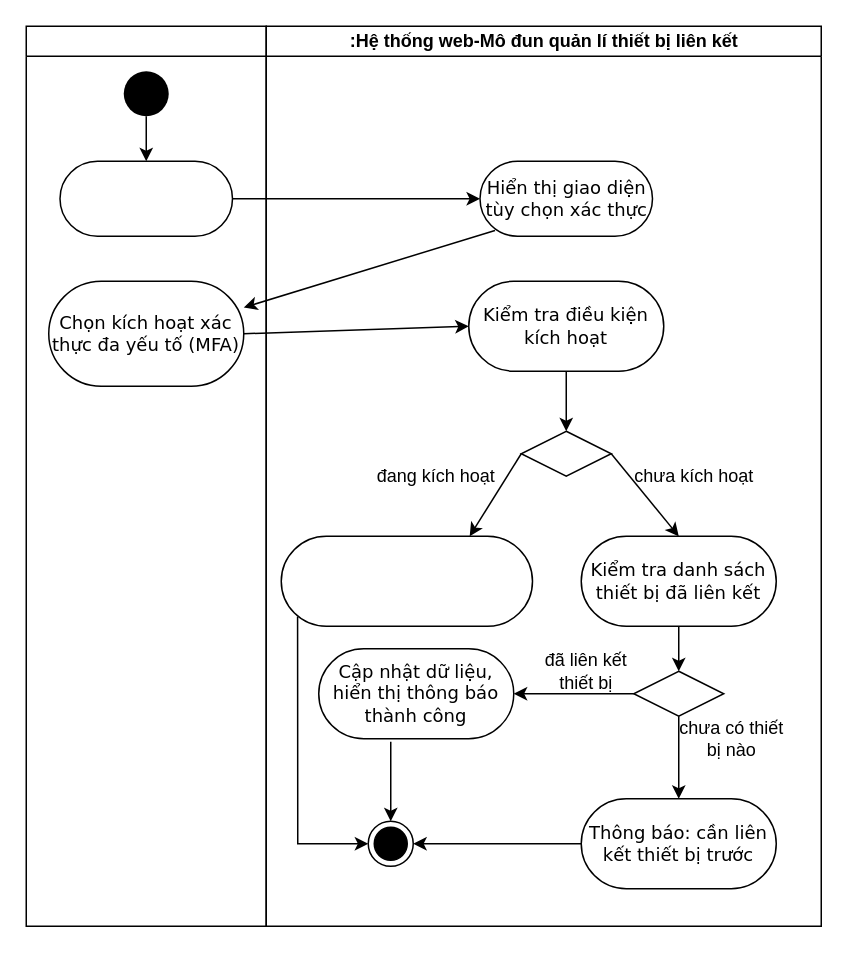
This 848x953 diagram has some shape labels left out. The box of each missing label's shape, as (x1, y1, x2, y2) in pixels:
:Người dùng: (25, 25, 266, 926)
Chọn chức năng thiết lập tùy chọn xác thực: (58, 160, 232, 236)
Thông báo: không có thay đổi: (280, 535, 532, 626)
